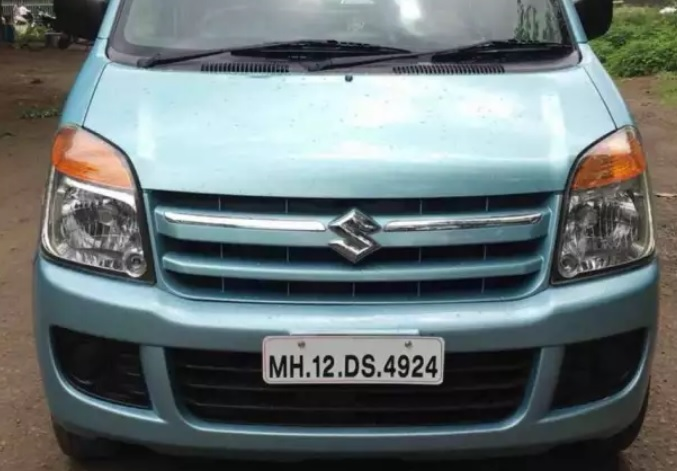licenseplate: (256, 331, 451, 389)
